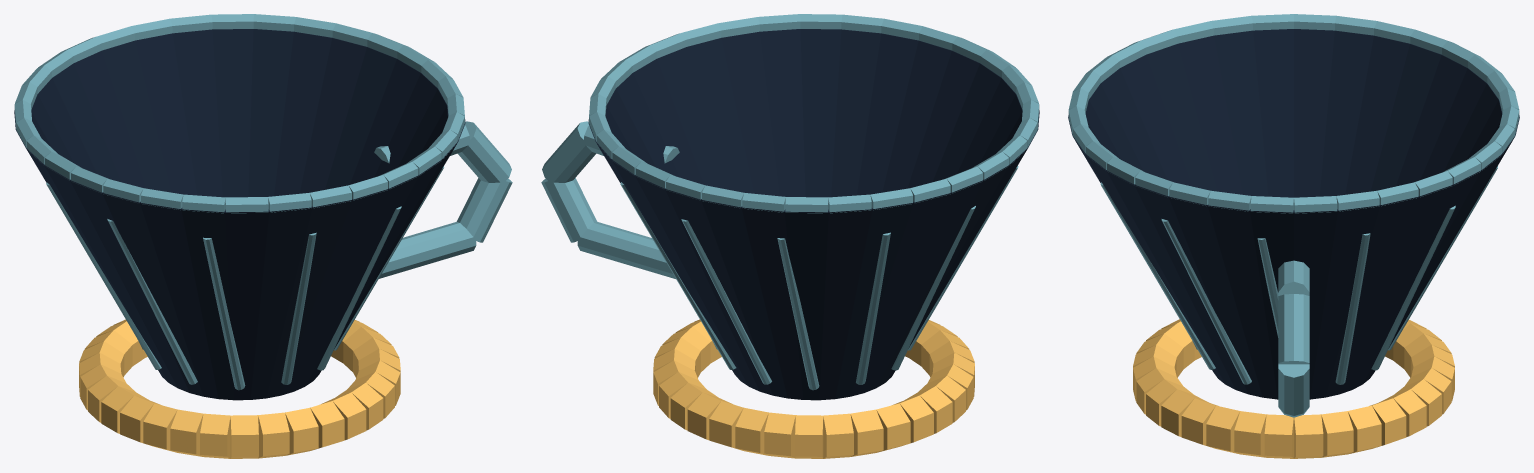
File: dripper.glb
3 views of the same model, side by side, from view 1: azimuth 30°, elevation 25°; view 2: azimuth 150°, elevation 25°; view 3: azimuth 270°, elevation 25° (orthographic).
Visible parts, largest first — view 1: conical wall, handle3, handle2, handle1, flute40, flute30, flute50, support foot9, support foot11, support foot12, support foot10, support foot8 (+40 smaller); view 2: conical wall, handle3, handle2, handle1, flute80, flute70, flute90, support foot22, support foot20, support foot19, support foot21, support foot23 (+40 smaller); view 3: conical wall, handle1, handle2, flute110, flute10, support foot1, support foot30, support foot0, support foot31, support foot2, support foot29, flute100 (+42 smaller).
Part boxes in pixels (left/top/right/bottom): conical wall: left=14, top=29, right=465, bottom=400; handle3: left=379, top=221, right=476, bottom=278; handle2: left=457, top=178, right=512, bottom=242; handle1: left=457, top=121, right=511, bottom=183; flute40: left=203, top=237, right=245, bottom=390; flute30: left=281, top=232, right=316, bottom=384; flute50: left=107, top=219, right=197, bottom=384; support foot9: left=258, top=412, right=289, bottom=458; support foot11: left=200, top=413, right=230, bottom=458; support foot12: left=170, top=409, right=203, bottom=456; support foot10: left=230, top=415, right=258, bottom=458; support foot8: left=285, top=407, right=318, bottom=455; conical wall: left=588, top=29, right=1039, bottom=400; handle3: left=577, top=221, right=675, bottom=278; handle2: left=541, top=178, right=596, bottom=242; handle1: left=542, top=121, right=596, bottom=183; flute80: left=777, top=238, right=819, bottom=390; flute70: left=856, top=232, right=890, bottom=384; flute90: left=681, top=219, right=771, bottom=384; support foot22: left=764, top=412, right=795, bottom=458; support foot20: left=823, top=413, right=853, bottom=458; support foot19: left=850, top=409, right=883, bottom=456; support foot21: left=795, top=415, right=823, bottom=458; support foot23: left=735, top=407, right=768, bottom=455; conical wall: left=1068, top=29, right=1519, bottom=399; handle1: left=1278, top=294, right=1309, bottom=364; handle2: left=1278, top=364, right=1309, bottom=415; flute110: left=1335, top=233, right=1370, bottom=384; flute10: left=1161, top=219, right=1251, bottom=384; support foot1: left=1234, top=411, right=1266, bottom=457; support foot30: left=1321, top=411, right=1353, bottom=457; support foot0: left=1264, top=414, right=1293, bottom=458; support foot31: left=1294, top=414, right=1323, bottom=458; support foot2: left=1206, top=405, right=1239, bottom=454; support foot29: left=1348, top=405, right=1381, bottom=454; flute100: left=1371, top=205, right=1455, bottom=370.
Size of the model in its own units: 1.57 by 0.947 by 1.32.
